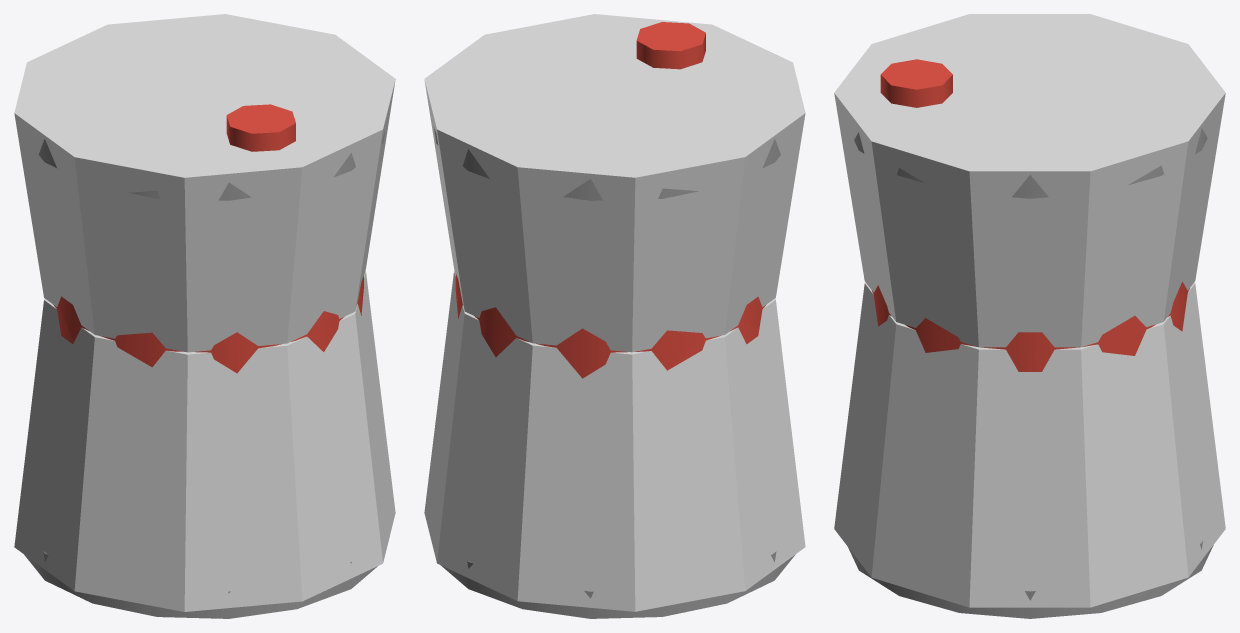
File: barrel_V3.fbx
3 renders of one model, left to right at view 1: azimuth 30°, elevation 25°; view 2: azimuth 150°, elevation 25°; view 3: azimuth 270°, elevation 25°, orthographic.
Parts seen in each view (by area): view 1: c_Top_Half_LOD0, c_Lower_Half_LOD0, Top_Half_LOD0, Lower_Half_LOD0, Barrel_cap_LOD0; view 2: c_Top_Half_LOD0, c_Lower_Half_LOD0, Top_Half_LOD0, Lower_Half_LOD0, Barrel_cap_LOD0; view 3: c_Top_Half_LOD0, c_Lower_Half_LOD0, Top_Half_LOD0, Lower_Half_LOD0, Barrel_cap_LOD0.
Boxes of the visible parts, left/top/right/bottom form: c_Top_Half_LOD0: left=14, top=14, right=395, bottom=352; c_Lower_Half_LOD0: left=14, top=271, right=395, bottom=611; Top_Half_LOD0: left=38, top=131, right=385, bottom=373; Lower_Half_LOD0: left=24, top=304, right=377, bottom=618; Barrel_cap_LOD0: left=226, top=104, right=295, bottom=151; c_Top_Half_LOD0: left=424, top=14, right=805, bottom=352; c_Lower_Half_LOD0: left=424, top=271, right=805, bottom=611; Top_Half_LOD0: left=433, top=127, right=780, bottom=378; Lower_Half_LOD0: left=440, top=294, right=795, bottom=618; Barrel_cap_LOD0: left=636, top=22, right=705, bottom=69; c_Top_Half_LOD0: left=834, top=14, right=1225, bottom=347; c_Lower_Half_LOD0: left=834, top=282, right=1225, bottom=607; Top_Half_LOD0: left=854, top=128, right=1207, bottom=371; Lower_Half_LOD0: left=848, top=318, right=1213, bottom=618; Barrel_cap_LOD0: left=880, top=59, right=952, bottom=107.
Size of what is drawn, in the model's own units: 309 by 427 by 325.
